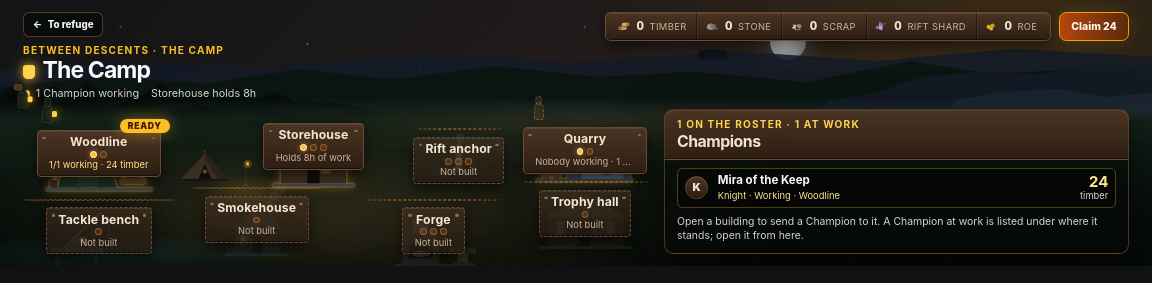
Scenario: CampScreen › claims the whole Camp and reads out what it paid
Click the button "Claim 24".
click(1094, 26)  # box x1=1059 y1=12 x2=1129 y2=40
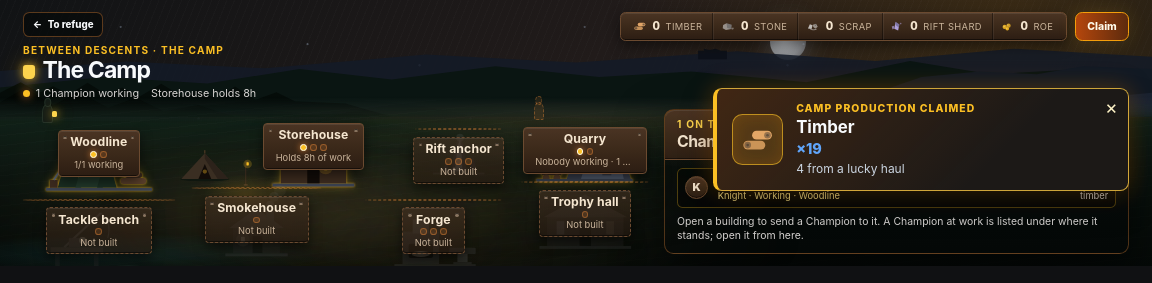
Check: the text "Camp production claimed" is shown, box x1=796 y1=103 x2=975 y2=115
Check: the text "×19" is shown, box x1=796 y1=140 x2=822 y2=157
Check: the text "4 from a lucky haul" is shown, box x1=796 y1=161 x2=905 y2=176
